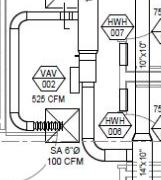VAV: (64, 48, 103, 96)
